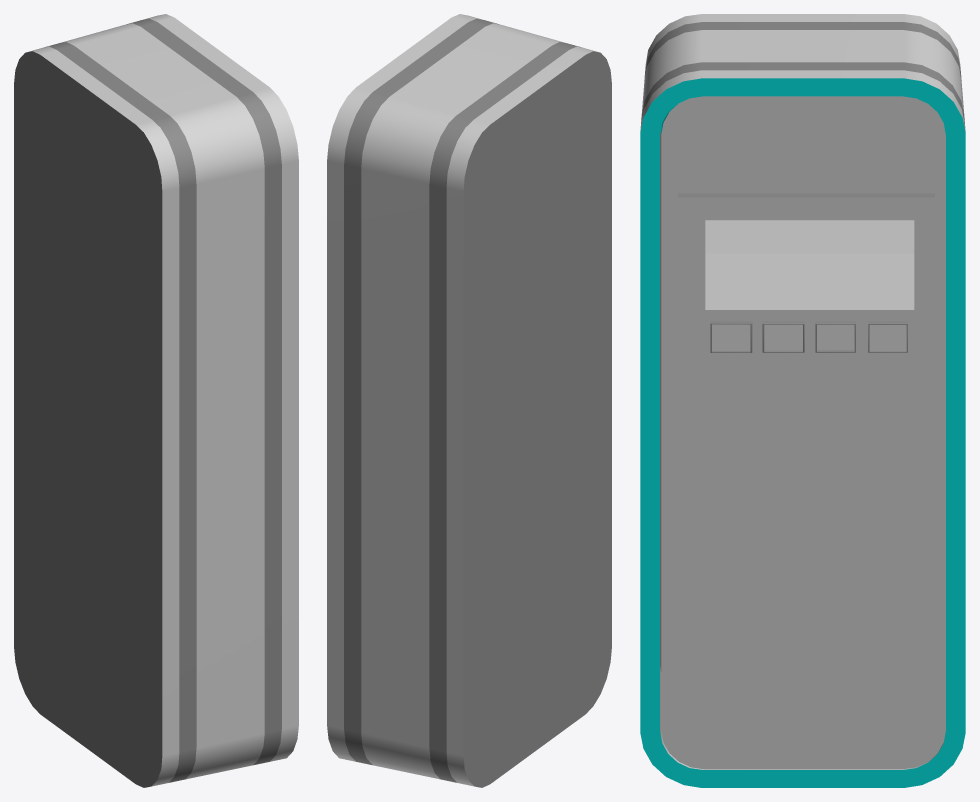
File: Locker_Pass.fbx
3 renders of one model, left to right at view 1: azimuth 30°, elevation 25°; view 2: azimuth 150°, elevation 25°; view 3: azimuth 270°, elevation 25°, orthographic. The views are drawn at different scales.
Parts seen in each view (by area): view 1: locker_base; view 2: locker_base; view 3: locker_locker_door_locker_door, locker_base.
Part boxes in pixels (x1,y1,x2,y2): locker_base: (14, 14, 298, 787); locker_base: (327, 14, 611, 787); locker_locker_door_locker_door: (661, 96, 945, 769); locker_base: (640, 14, 965, 787).
Size of the model in its own units: 50.2 by 207 by 86.02.
